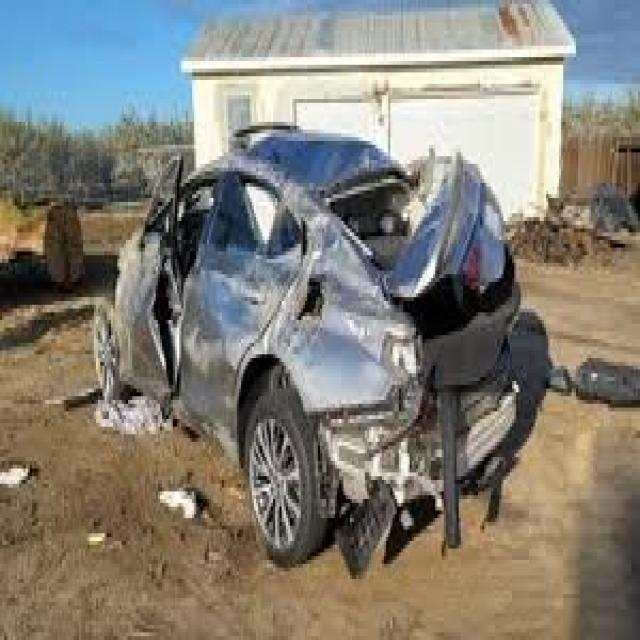accident: (82, 112, 532, 562)
